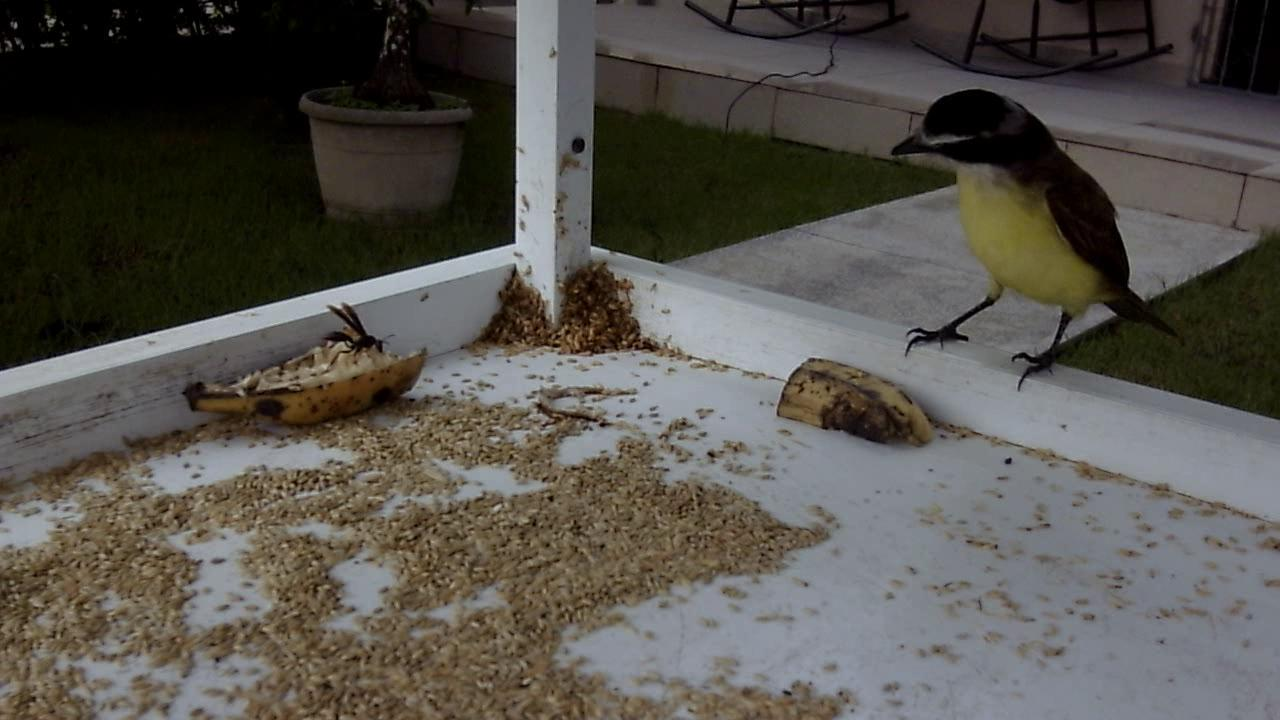bem_te_vi: (876, 81, 1188, 403)
